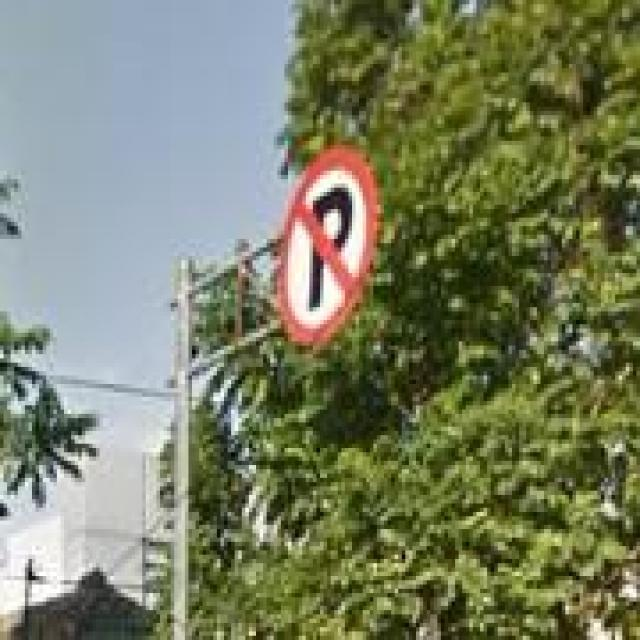traffic sign: (281, 149, 377, 346)
